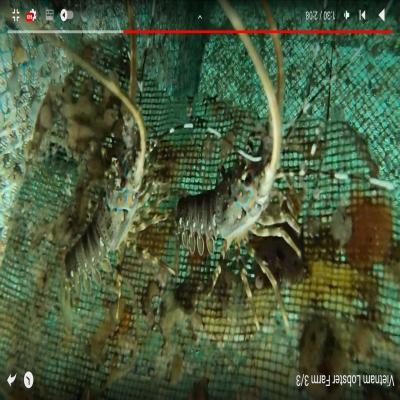lobster: (64, 134, 144, 284), (175, 159, 279, 250)
